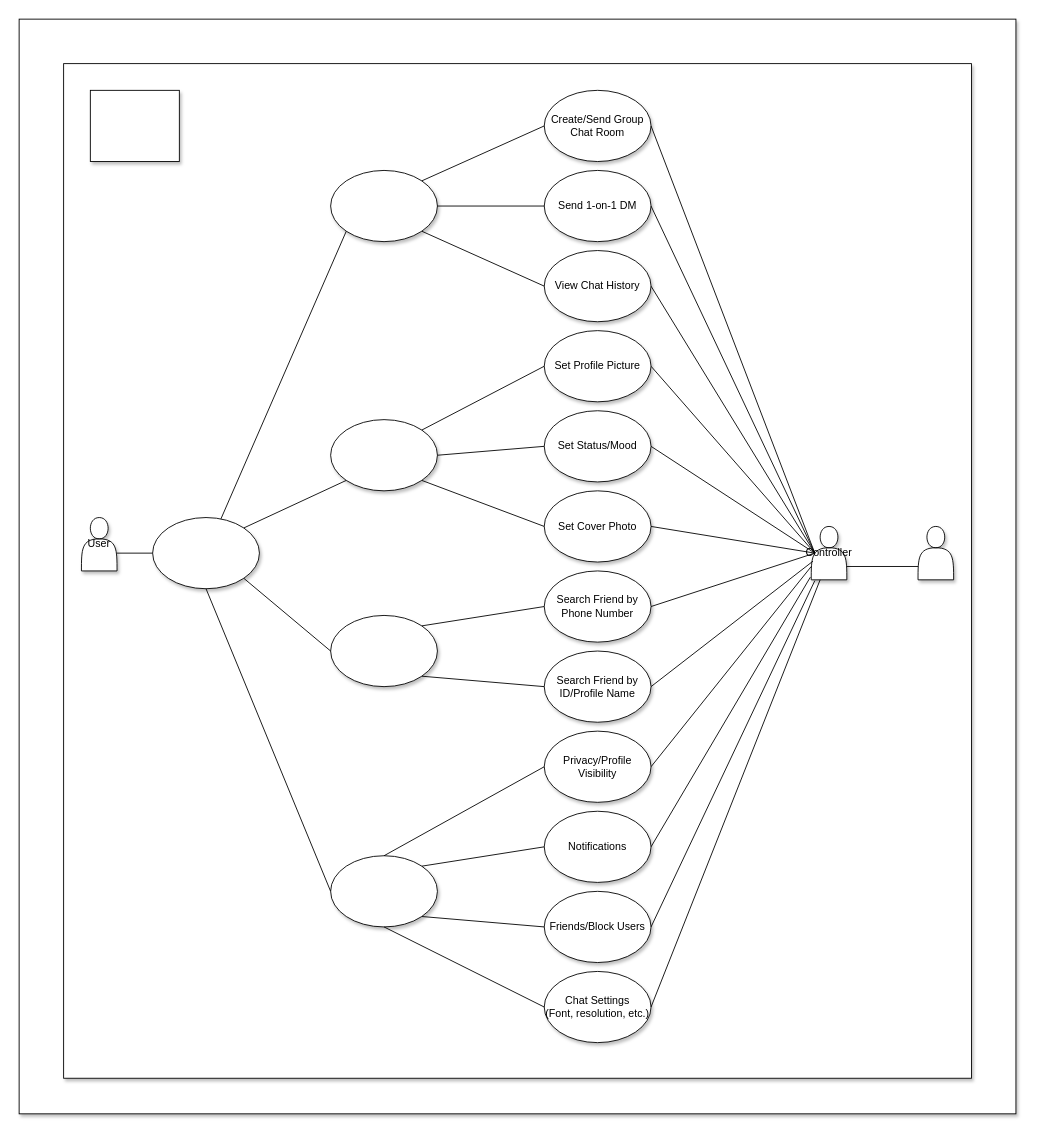
Image size: 1037x1136. Some labels were removed from this diagram. The centre of each missing label's shape, as x and y in pixels:
App Settings: point 384,892
Chatify Messaging App: point 135,127
Find/Search Friends: point 384,652
Firebase DB: point 936,554
List of Chats/Chatrooms: point 384,207
Login/Authentication and Register: point 206,554
Personalize Profile and List of Friend's Profiles: point 384,456
